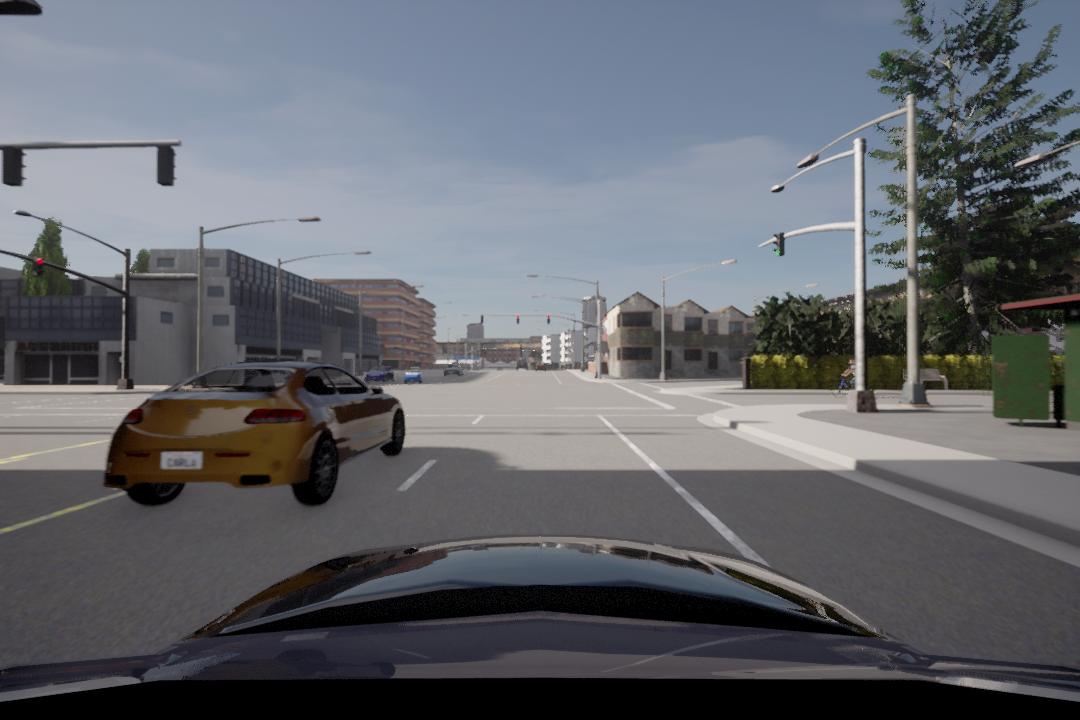TrafficLight: (771, 231, 789, 259), (31, 253, 45, 278)
